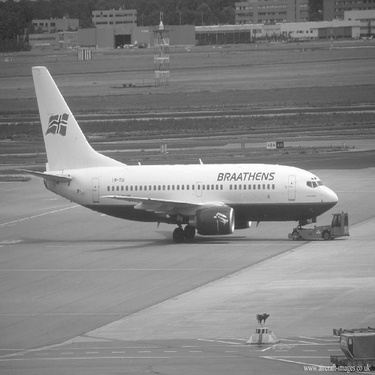airplane: (16, 54, 356, 260)
